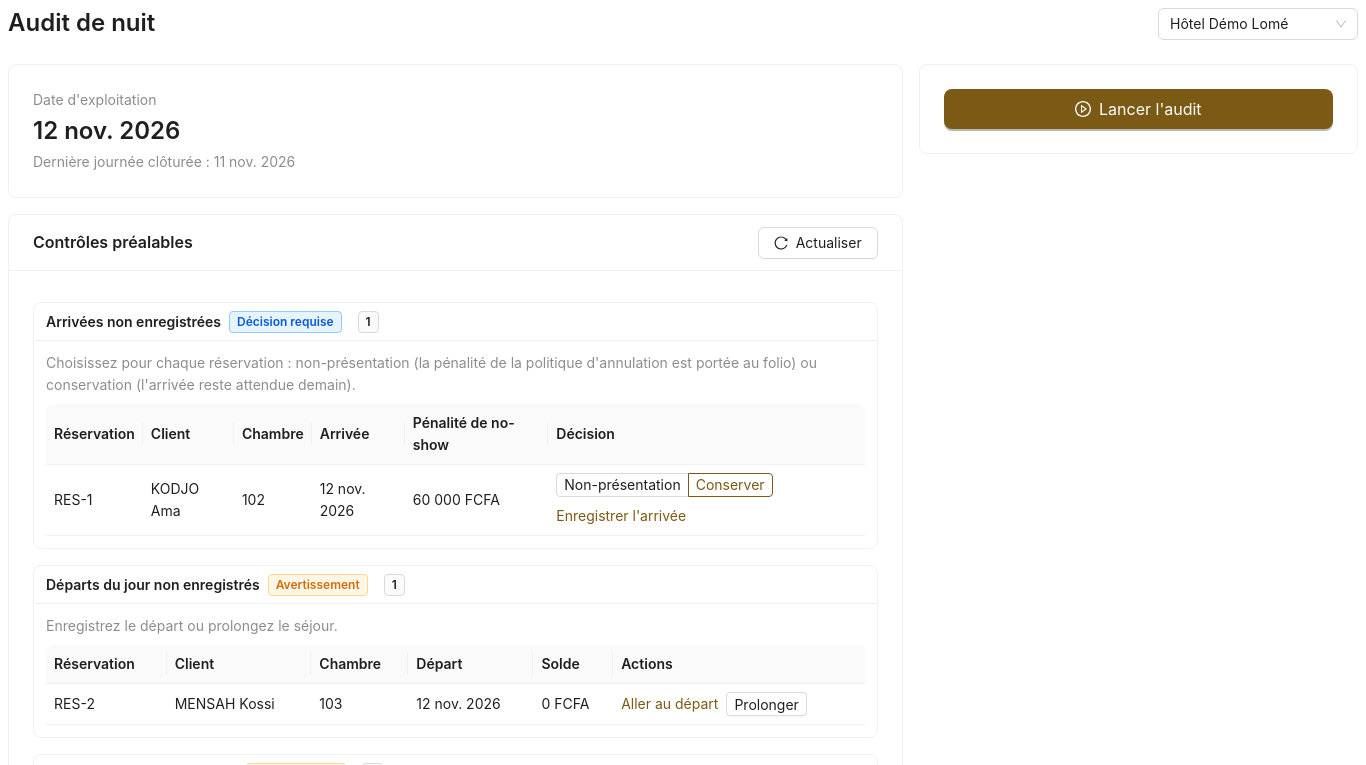
Test: night audit screen › sends the no-show decision, shows the live progress per step, then the day summary
Later steps or results of the test are not shown.
Click the button "Non-présentation".
click(622, 484)  # box [564,476,681,493]
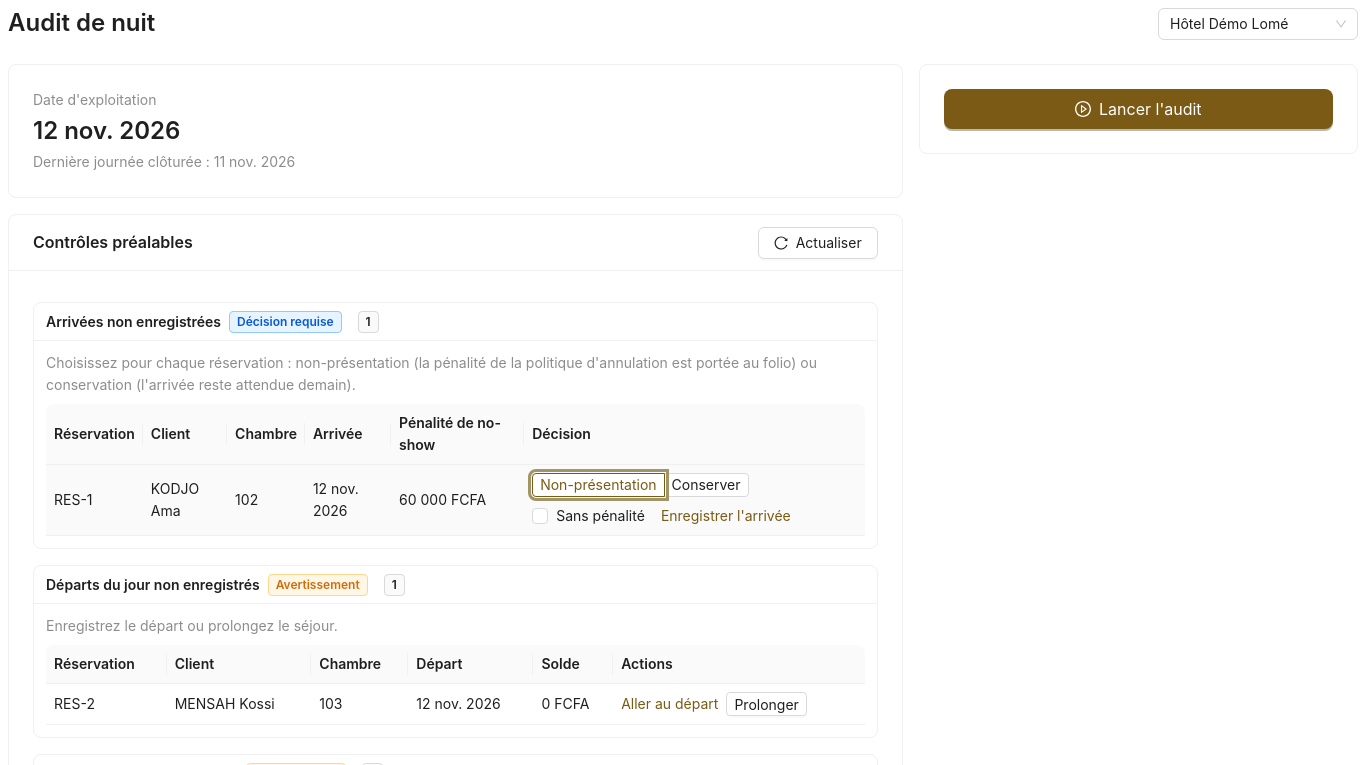
Check: the text "Sans pénalité" is shown, box [556,507,645,524]
Click the button "Lancer l'audit".
click(1138, 109)  # box [944,89,1333,129]
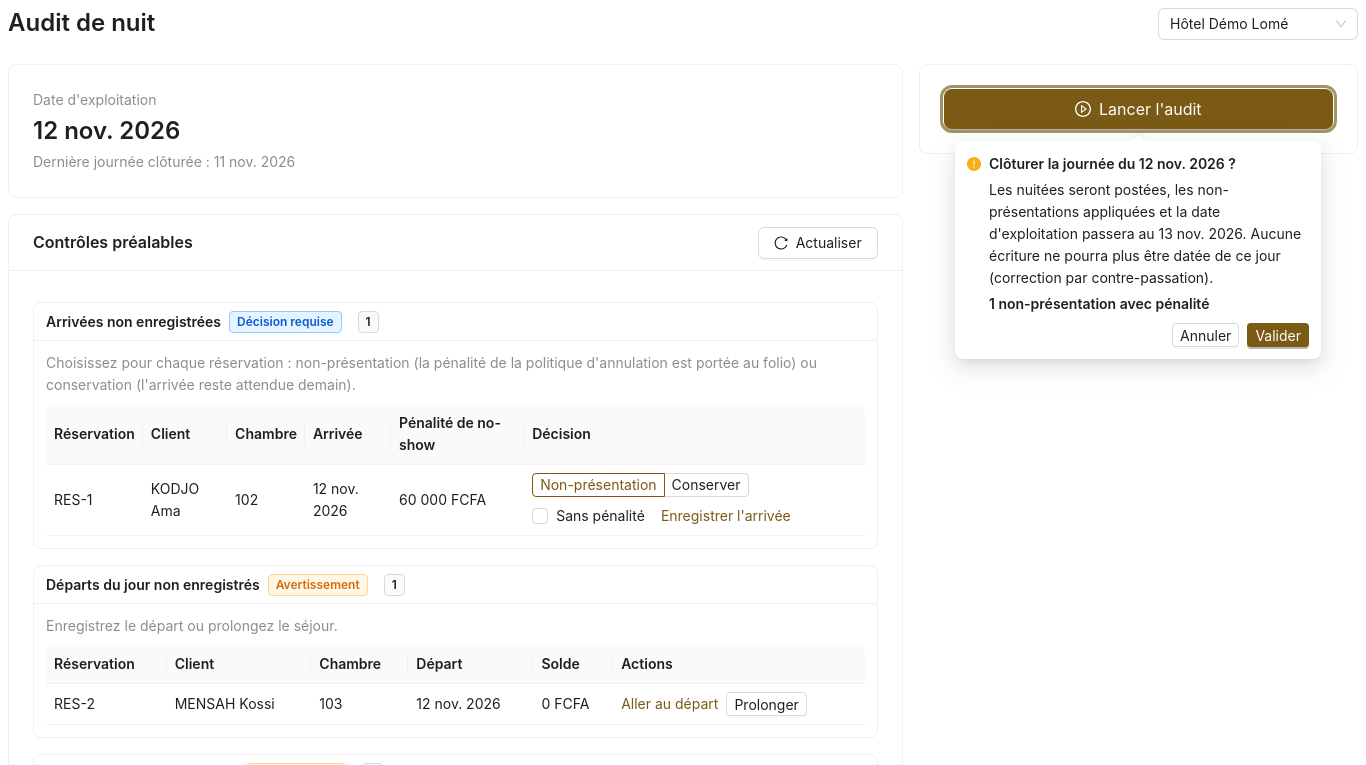
Check: the text "1 non-présentation avec pénalité" is shown, box [989,295,1210,312]
Click the button "Valider".
click(1278, 335)  # box [1247,323,1309,347]
(page scrolled)
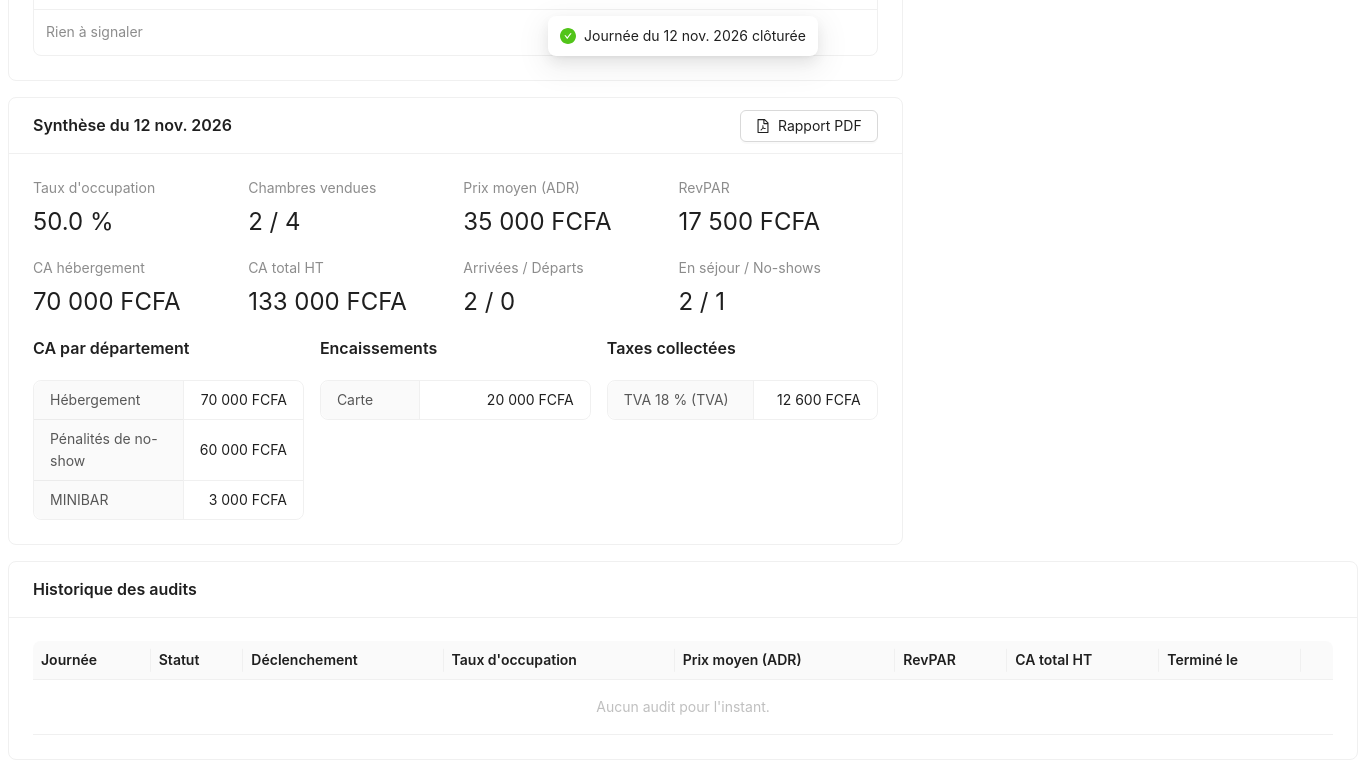
Check: the text "Synthèse du 12 nov. 2026" is shown, box [33,115,232,135]
Check: the text "50.0 %" is shown, box [33,203,114,241]
Check: the text "2 / 4" is shown, box [248,203,300,241]
